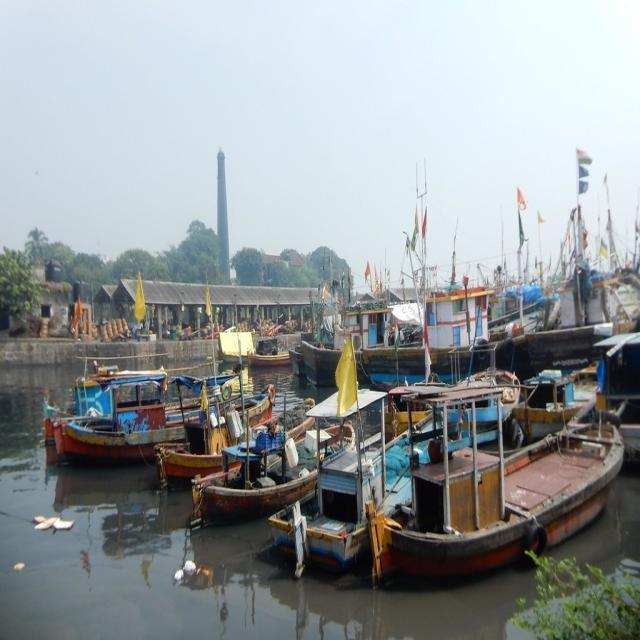Hyacinth: (523, 560, 640, 639)
boat: (378, 408, 618, 588), (208, 323, 292, 366)
